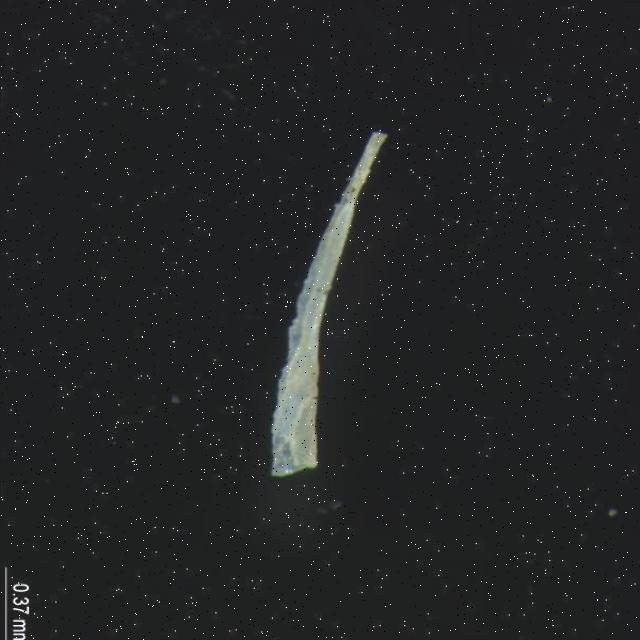Fibre: (256, 127, 394, 486)
